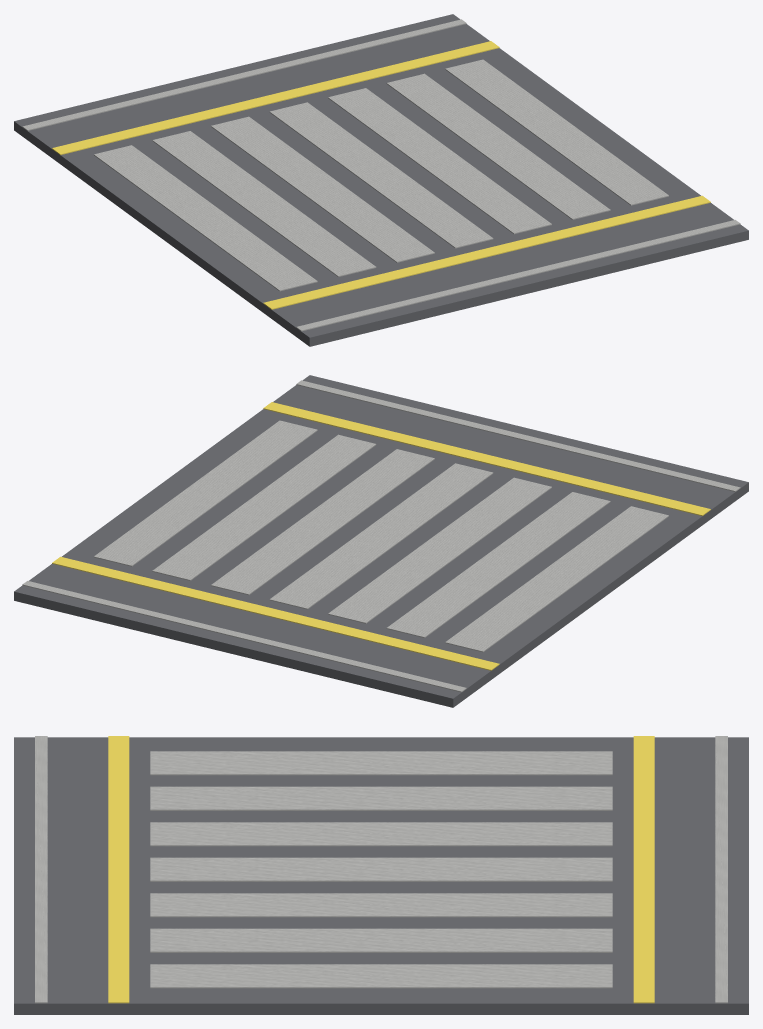
File: bus-station-and-city-transit-pedestrian-crossing-tile-2bfe8815__34217.glb
3 renders of one model, top to bottom at view 1: azimuth 30°, elevation 25°; view 2: azimuth 150°, elevation 25°; view 3: azimuth 270°, elevation 25°, orthographic. The views are drawn at different scales.
Visible parts, largest first — view 1: pedestrian-crossing-tile-charcoal, pedestrian-crossing-tile-concrete, pedestrian-crossing-tile-canary; view 2: pedestrian-crossing-tile-charcoal, pedestrian-crossing-tile-concrete, pedestrian-crossing-tile-canary; view 3: pedestrian-crossing-tile-charcoal, pedestrian-crossing-tile-concrete, pedestrian-crossing-tile-canary.
Boxes of the visible parts, box(x1,y1,x2,y2) form: pedestrian-crossing-tile-charcoal: box(14, 14, 748, 346); pedestrian-crossing-tile-concrete: box(22, 19, 740, 331); pedestrian-crossing-tile-canary: box(52, 41, 710, 309); pedestrian-crossing-tile-charcoal: box(14, 375, 748, 707); pedestrian-crossing-tile-concrete: box(22, 380, 740, 692); pedestrian-crossing-tile-canary: box(52, 402, 710, 670); pedestrian-crossing-tile-charcoal: box(14, 737, 748, 1014); pedestrian-crossing-tile-concrete: box(35, 736, 727, 1003); pedestrian-crossing-tile-canary: box(108, 736, 654, 1003).
Size of the model in its own units: 6 by 0.1319 by 7.
3 materials, 1 textured.
